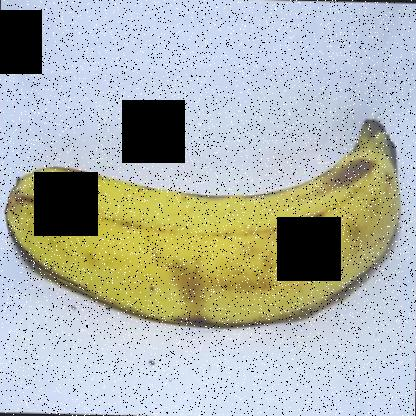ripe: (0, 106, 402, 350)
